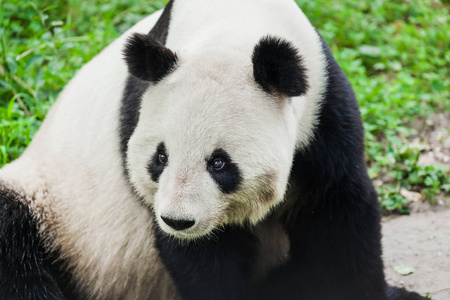panda: (1, 2, 390, 299)
